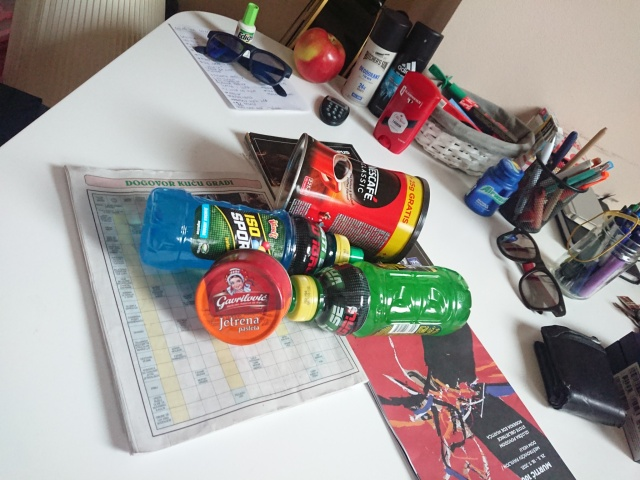Gavrilovic Pork Liver Pate 100g: (193, 247, 294, 347)
Nescafe Classic 225g: (271, 131, 432, 266)
Vindi Iso Sport Forest Strawberries 500mL: (138, 185, 367, 287)
Vindi Iso Sport Lemon-Grapefruit 500mL: (269, 259, 475, 341)
